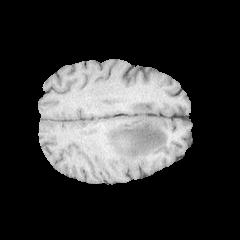glioma: (99, 118, 171, 169)
